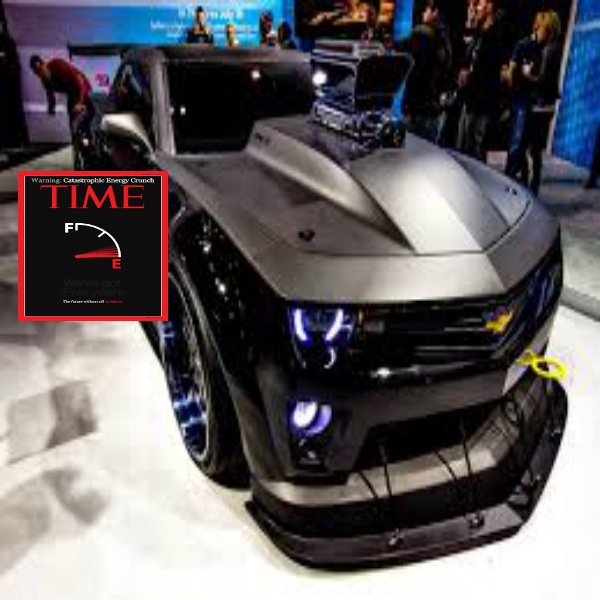time_cover: (13, 160, 172, 332)
